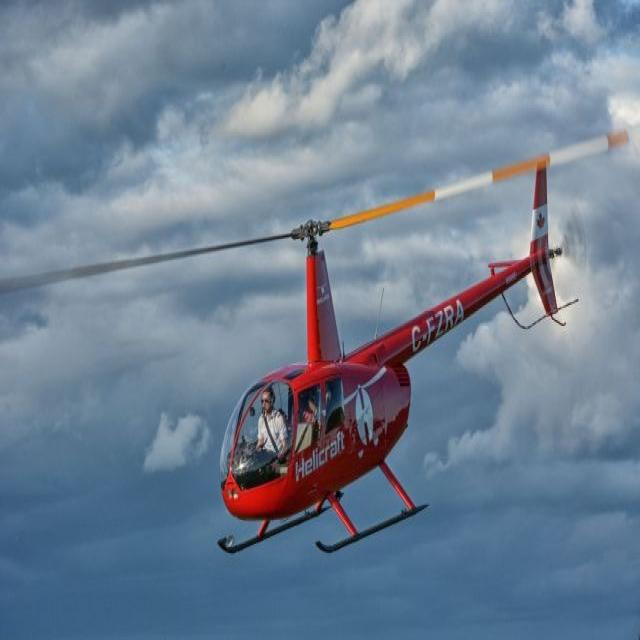CIV_HELO: (215, 159, 562, 559)
